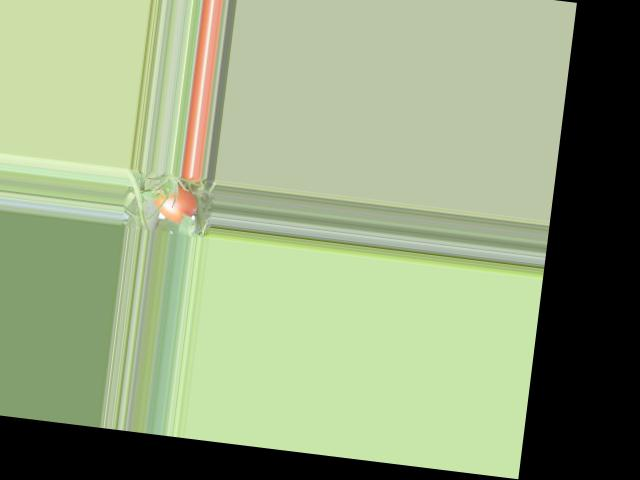tomato: (152, 182, 200, 224)
